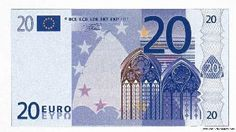billete: (11, 8, 230, 128)
